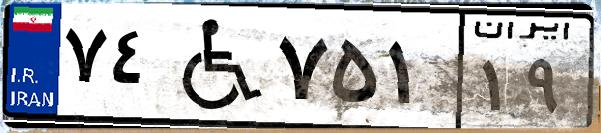1: (385, 28, 445, 110), (475, 38, 525, 113)
4: (110, 28, 158, 98)
5: (330, 28, 385, 110)
7: (270, 28, 330, 110), (57, 26, 110, 100)
9: (525, 38, 570, 115)
ژ (معلولین و جانبازان): (158, 12, 270, 120)
